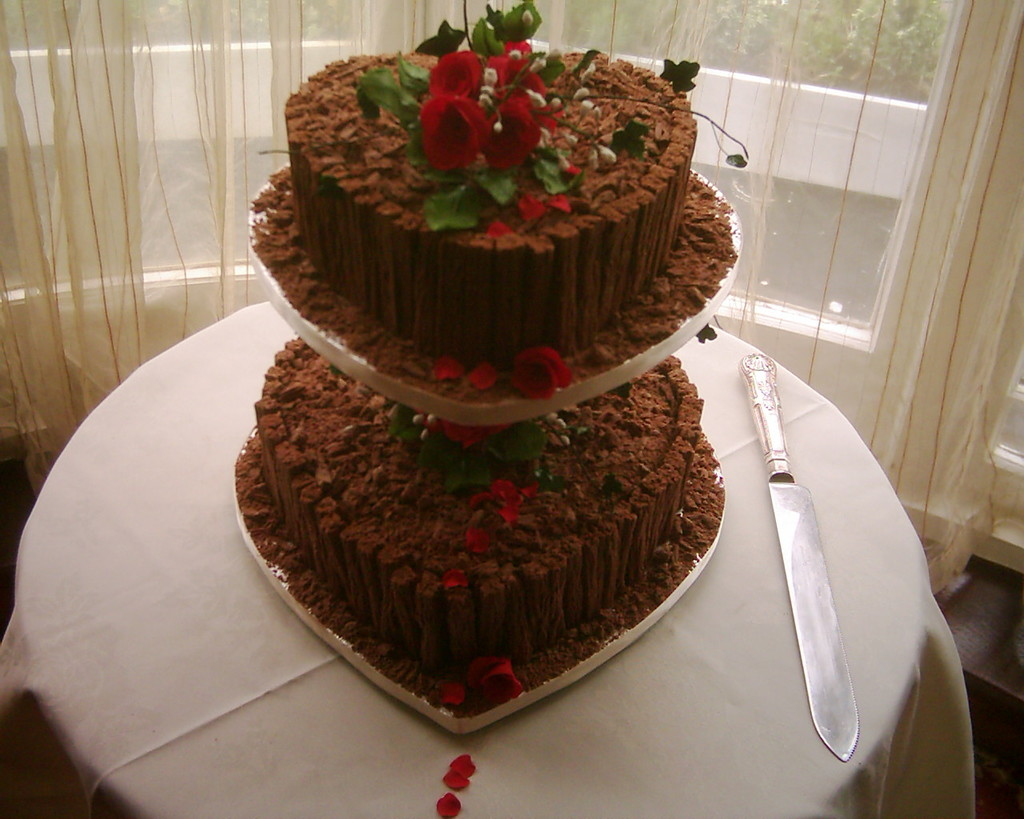cake: (232, 338, 723, 721), (280, 47, 700, 399)
